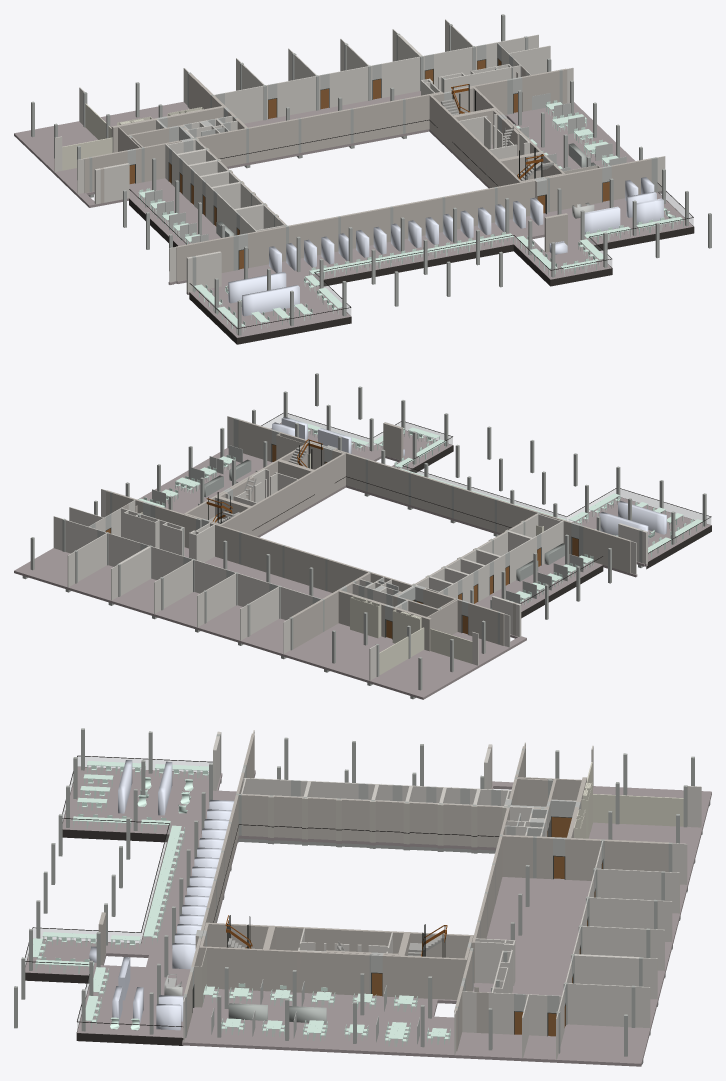
Rendered from tib_og2.glb.
3 renders of one model, top to bottom at view 1: azimuth 30°, elevation 25°; view 2: azimuth 150°, elevation 25°; view 3: azimuth 270°, elevation 25°, orthographic. The views are drawn at different scales.
Parts seen in each view (by area): view 1: tib_og2__TIB Farbe 176-176-172, tib_og2__TIB Moebel reading_chair; view 2: tib_og2__TIB Farbe 176-176-172, tib_og2__TIB Moebel reading_chair, tib_og2__TIB clear neutral guard glass 2026-10-24; view 3: tib_og2__TIB Farbe 176-176-172, tib_og2__TIB Moebel reading_chair, tib_og2__TIB clear neutral guard glass 2026-10-24.
Boxes of the visible parts, <box> form: tib_og2__TIB Farbe 176-176-172: <box>14,14,711,344</box>; tib_og2__TIB Moebel reading_chair: <box>145,93,672,316</box>; tib_og2__TIB Farbe 176-176-172: <box>14,373,711,699</box>; tib_og2__TIB Moebel reading_chair: <box>152,417,666,608</box>; tib_og2__TIB clear neutral guard glass 2026-10-24: <box>262,414,710,524</box>; tib_og2__TIB Farbe 176-176-172: <box>14,728,711,1066</box>; tib_og2__TIB Moebel reading_chair: <box>89,760,451,1044</box>; tib_og2__TIB clear neutral guard glass 2026-10-24: <box>25,756,212,1030</box>.
Size of the model in its own units: 57.74 by 5.91 by 57.32.
3 materials, 3 textured.
